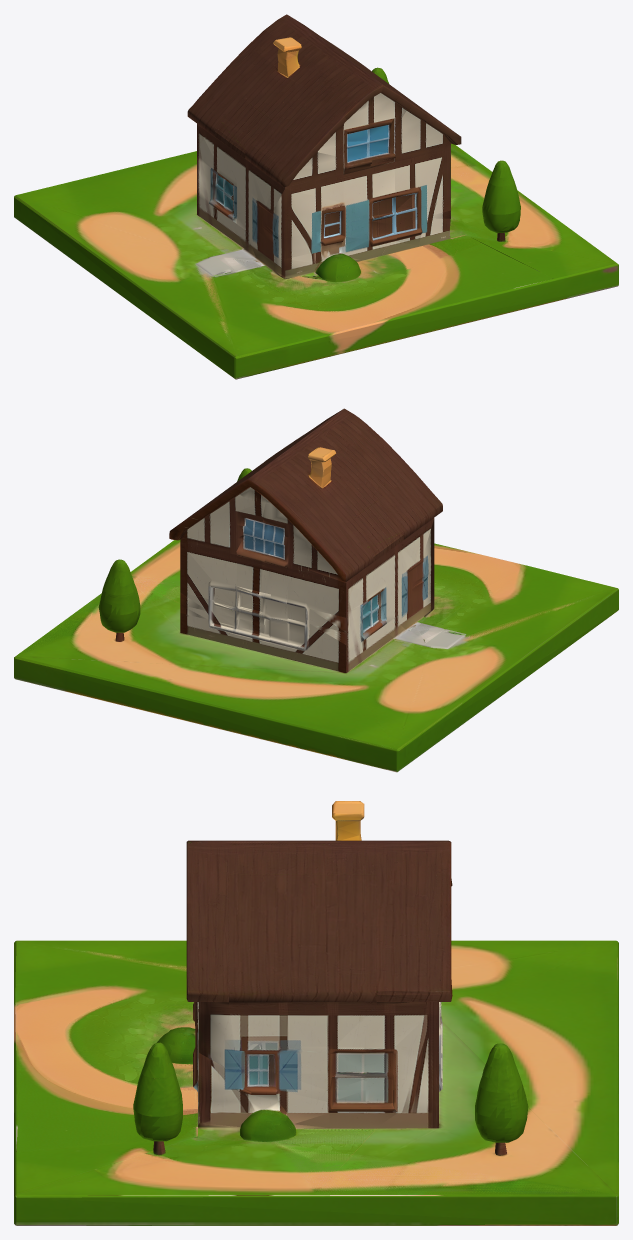
Rendered from building_house_small_a.glb.
The picture shows the model from 3 angles, top to bottom: view 1: azimuth 30°, elevation 25°; view 2: azimuth 150°, elevation 25°; view 3: azimuth 270°, elevation 25°; orthographic projection. The views are drawn at different scales.
Visible parts, largest first — view 1: hollow_normalise; view 2: hollow_normalise; view 3: hollow_normalise.
Boxes of the visible parts, bbox=[...] form: hollow_normalise: bbox=[14, 14, 618, 379]; hollow_normalise: bbox=[14, 408, 618, 772]; hollow_normalise: bbox=[14, 801, 618, 1225].
Size of the model in its own units: 7.79 by 4 by 7.79.
Materials: 1 (1 with a texture image).
